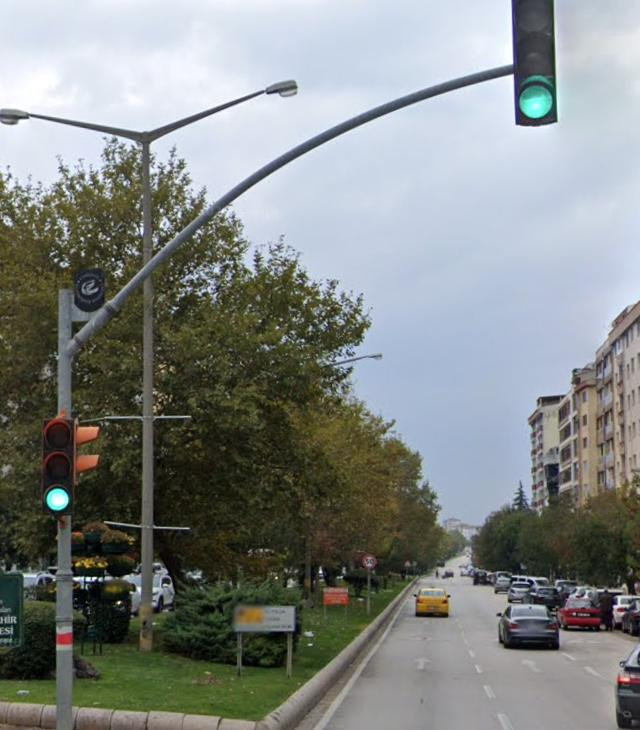greenlight: (511, 0, 561, 125), (41, 413, 77, 516)
